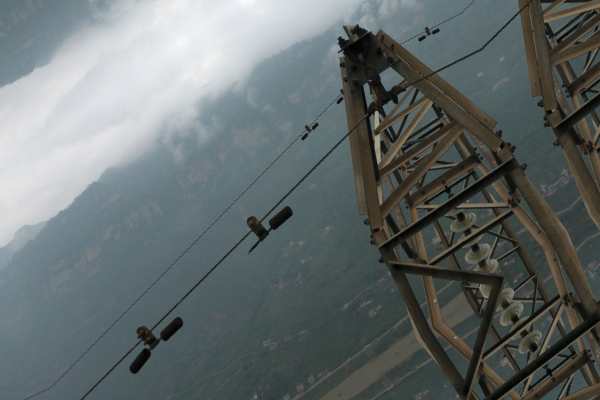damper: (127, 315, 184, 375), (416, 24, 441, 42), (299, 121, 320, 141)
damper_defect: (242, 204, 295, 256)
